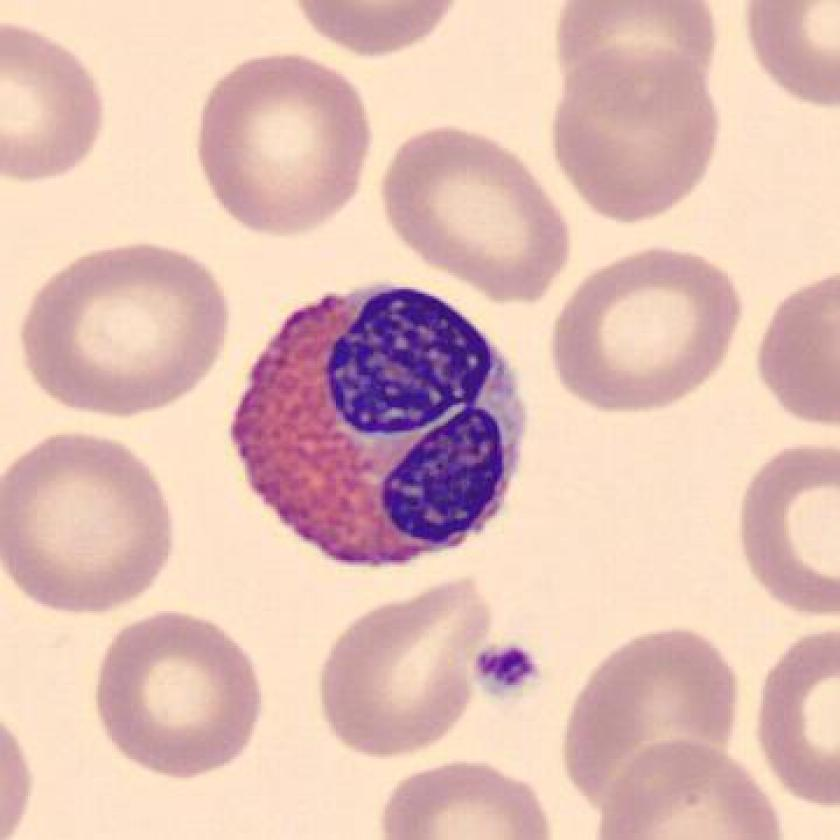eosinophil: (218, 274, 538, 589)
